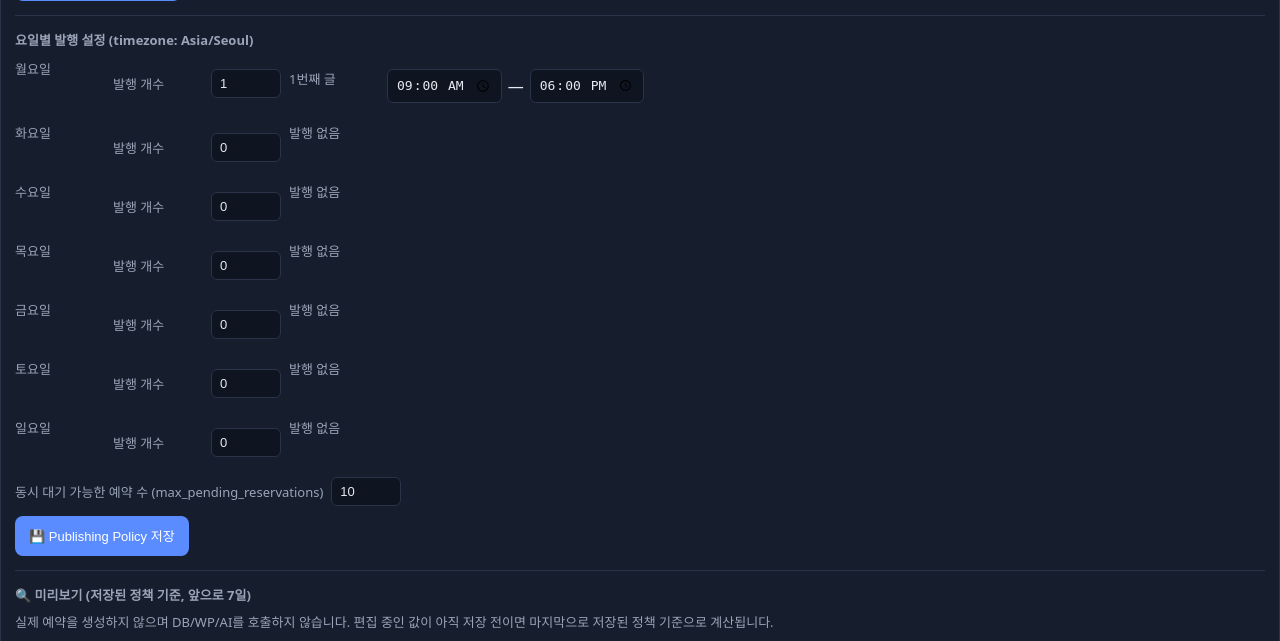
Test: PublishingPolicyPanel — 저장 › shows a validation error message when save fails, without pretending success
(page scrolled)
Click the button "💾 Publishing Policy 저장" at coordinates (102, 536), box [15,516,189,556]
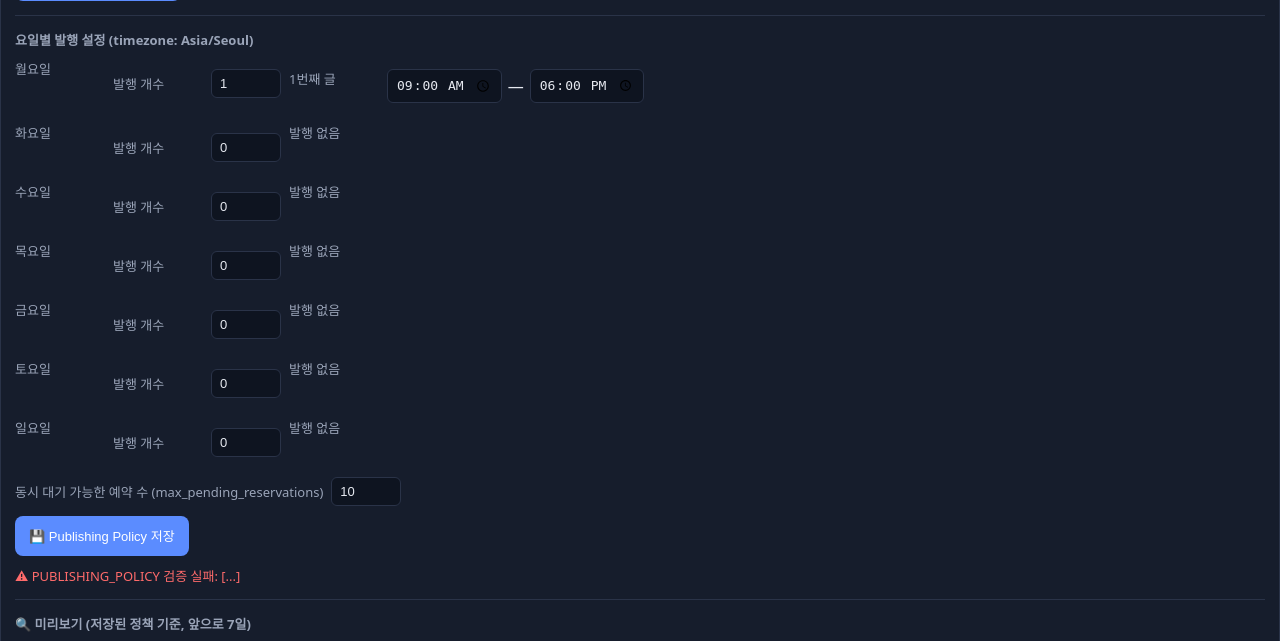
Expected: the text "⚠ PUBLISHING_POLICY 검증 실패: [...]" is shown, [15,567,240,585]
